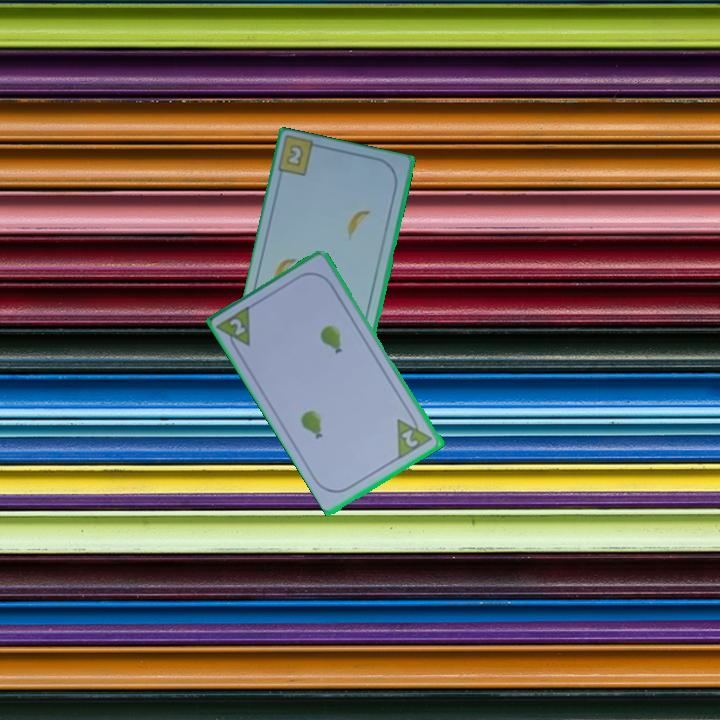2b: (283, 143, 307, 170)
2p: (393, 409, 436, 462), (214, 302, 255, 357)
